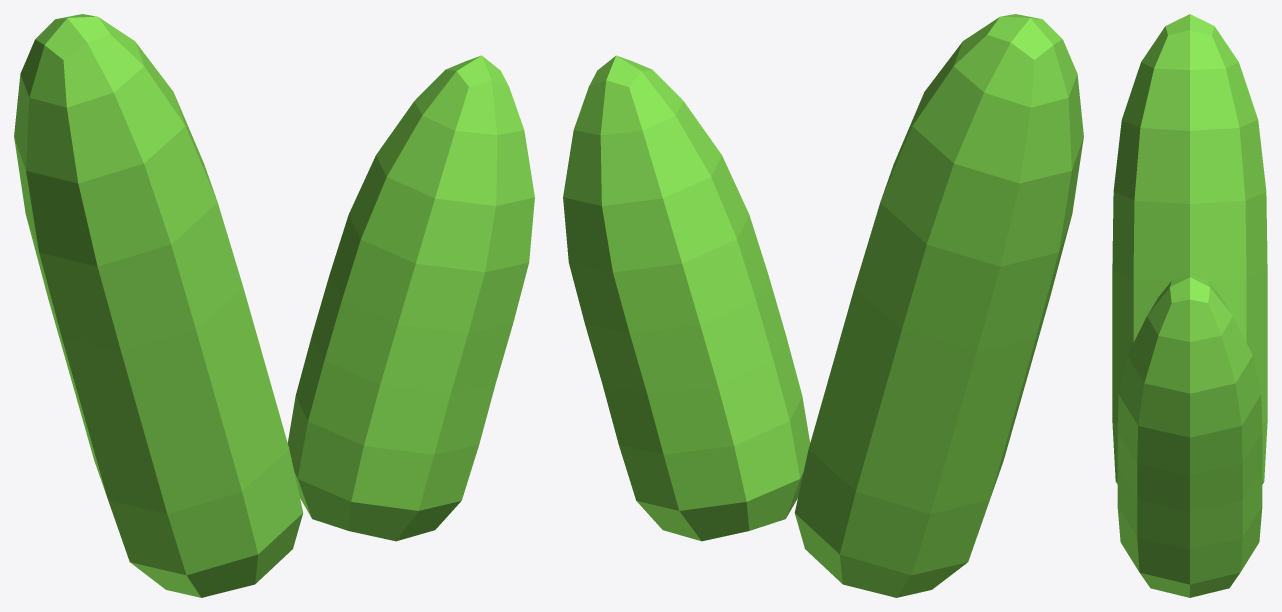
File: grass1.fbx
3 renders of one model, left to right at view 1: azimuth 30°, elevation 25°; view 2: azimuth 150°, elevation 25°; view 3: azimuth 270°, elevation 25°, orthographic. The views are drawn at different scales.
Visible parts, largest first — view 1: Grass1; view 2: Grass1; view 3: Grass1.
Part boxes in pixels (bbox=[...]): Grass1: bbox=[14, 14, 534, 597]; Grass1: bbox=[563, 14, 1083, 597]; Grass1: bbox=[1112, 14, 1267, 597].
Bounding box in the file's own units: 27.5 × 31.44 × 9.61.
